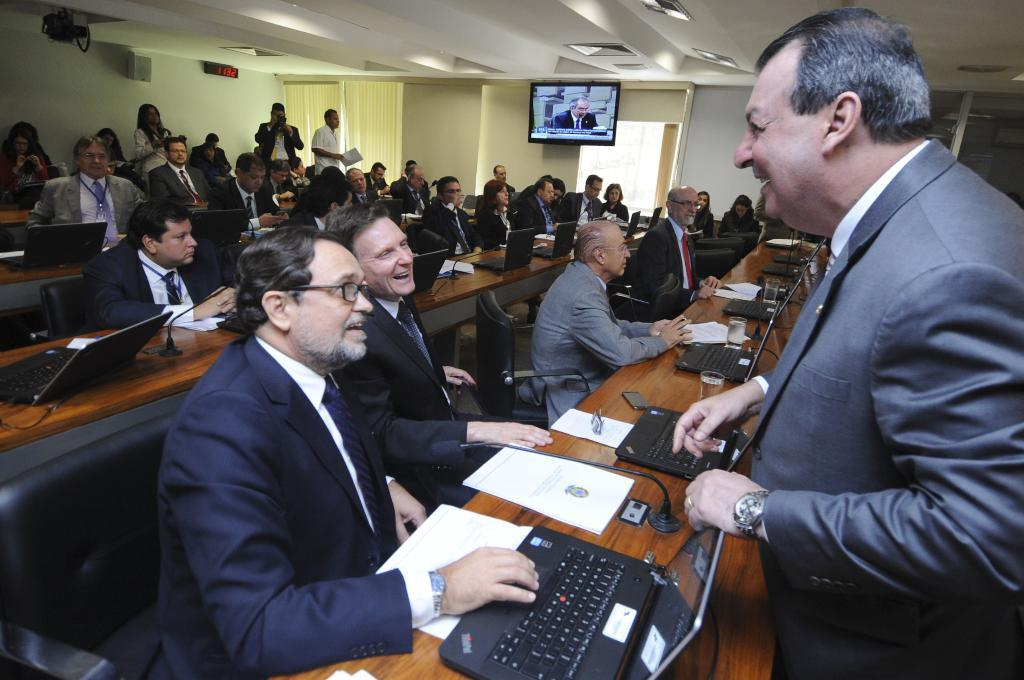Laptop: (433, 519, 721, 679), (616, 405, 742, 482), (674, 299, 778, 386), (721, 259, 810, 321), (0, 225, 107, 272), (762, 234, 828, 279), (470, 229, 534, 275), (192, 209, 243, 248), (410, 248, 452, 293), (531, 223, 578, 259), (639, 207, 664, 236), (376, 197, 402, 220), (620, 215, 641, 238)
